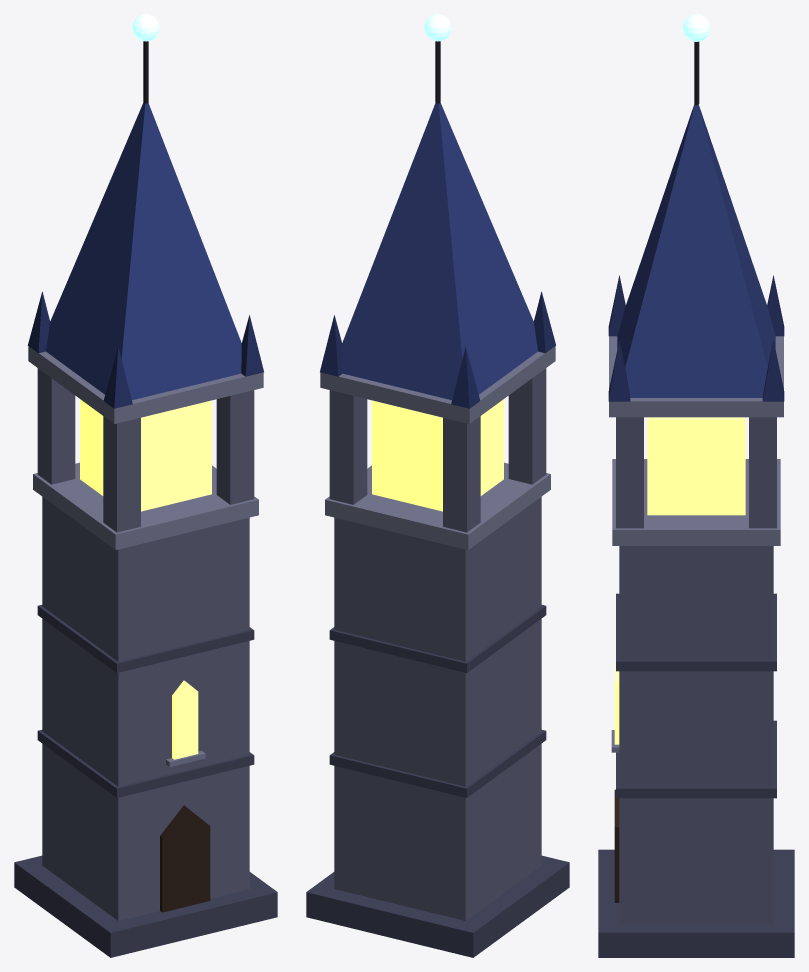
File: edge-bell-tower.glb
3 renders of one model, left to right at view 1: azimuth 30°, elevation 25°; view 2: azimuth 150°, elevation 25°; view 3: azimuth 270°, elevation 25°, orthographic.
Parts seen in each view (by area): view 1: cw_paint, cw_glow, cw_neon; view 2: cw_paint, cw_glow, cw_neon; view 3: cw_paint, cw_glow, cw_neon.
Part boxes in pixels (left/top/right/bottom): cw_paint: left=14, top=41, right=277, bottom=957; cw_glow: left=80, top=399, right=211, bottom=759; cw_neon: left=132, top=14, right=159, bottom=41; cw_paint: left=306, top=41, right=569, bottom=957; cw_glow: left=372, top=399, right=503, bottom=511; cw_neon: left=424, top=14, right=451, bottom=41; cw_paint: left=598, top=41, right=794, bottom=957; cw_glow: left=614, top=417, right=745, bottom=744; cw_neon: left=682, top=14, right=710, bottom=41.
Bounding box in the file's own units: 2.8 × 14.2 × 2.8.
